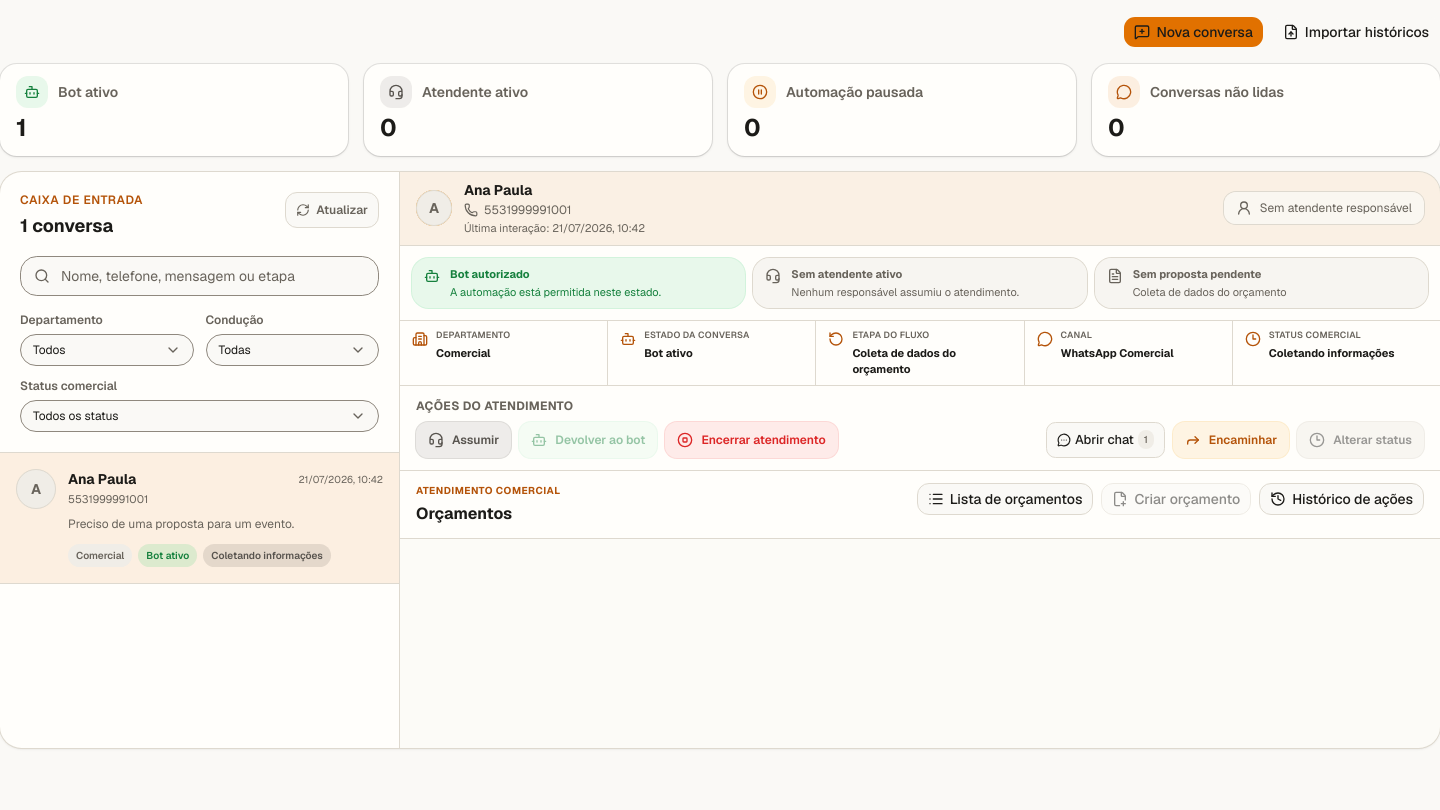
Test case: ConversationWorkspace › refreshes a pending delivery even when the conversation version did not change
This screenshot has width=1440, height=810.
Click the button named "Mensagens e anexos": (1105, 440) [1046,422,1165,458]
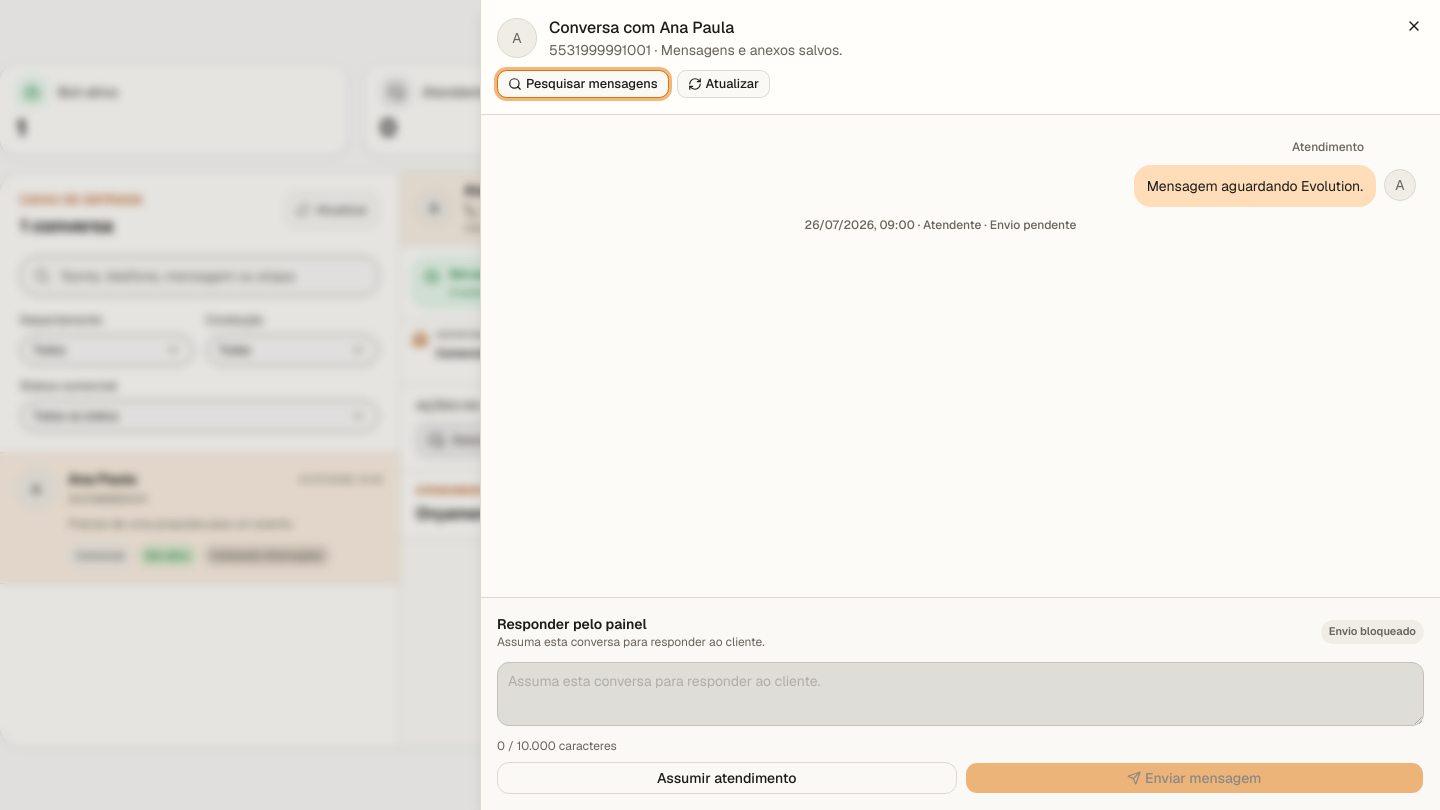
Expected: the text "26/07/2026, 09:00 · Atendente · Envio pendente" is shown, [805,217,1076,233]
Click the button "Atualizar": (723, 84) [676,70,770,98]
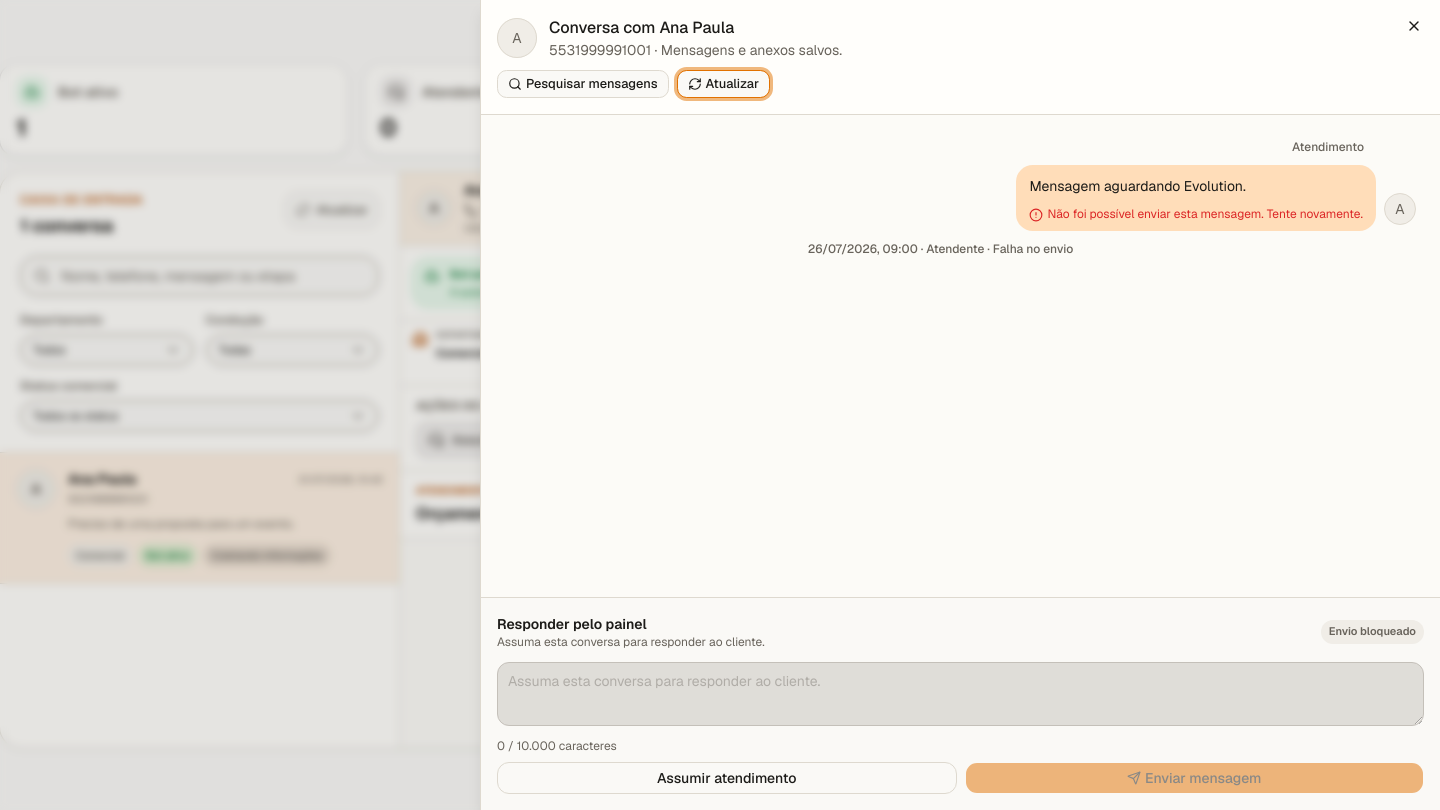
Expected: the text "26/07/2026, 09:00 · Atendente · Falha no envio" is shown, [808,241,1073,257]
Expected: the text "Não foi possível enviar esta mensagem. Tente novamente." is shown, [1048,206,1363,222]
